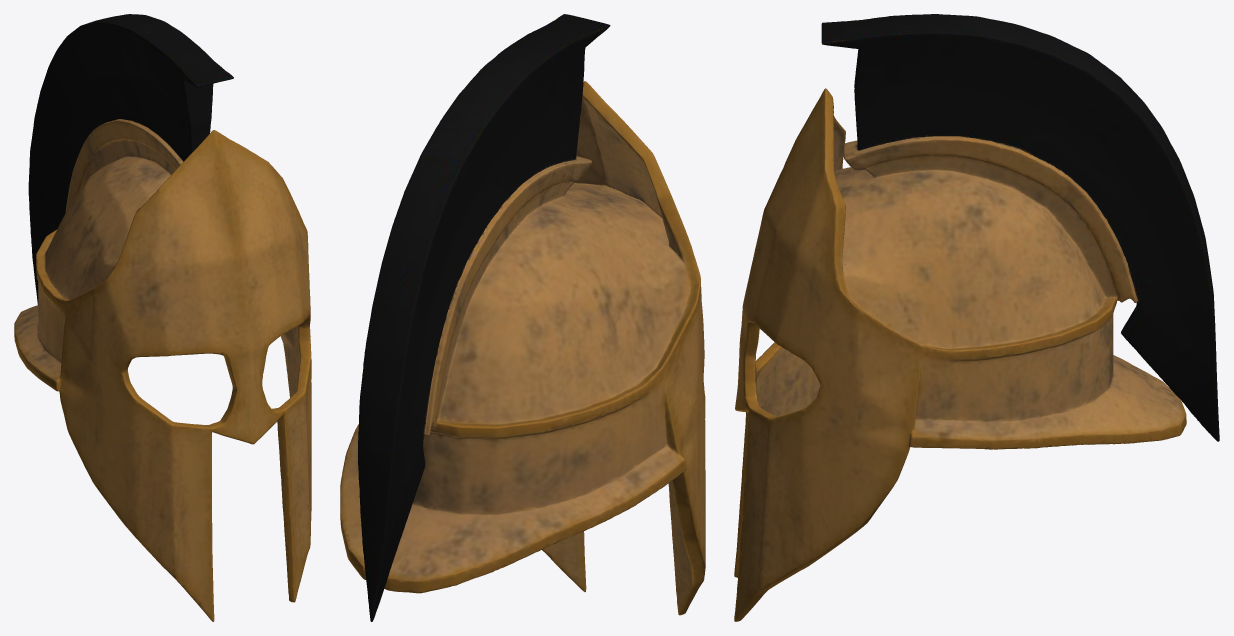
The model's file is helmet.glb.
3 renders of one model, left to right at view 1: azimuth 30°, elevation 25°; view 2: azimuth 150°, elevation 25°; view 3: azimuth 270°, elevation 25°, orthographic. The views are drawn at different scales.
Parts seen in each view (by area): view 1: geometry_0; view 2: geometry_0; view 3: geometry_0.
Part boxes in pixels (x1,y1,x2,y2): geometry_0: [14, 14, 311, 621]; geometry_0: [340, 14, 705, 621]; geometry_0: [734, 14, 1219, 621].
Bounding box in the file's own units: 0.4915 × 1 × 0.7628.
Materials: 1 (1 with a texture image).
